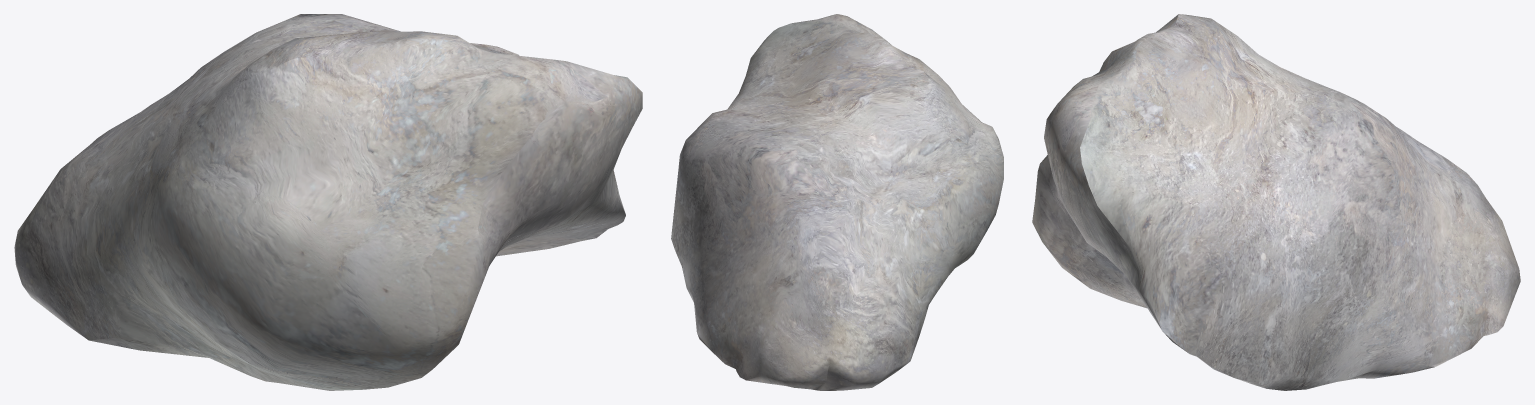
Rendered from rock_00F_2k.fbx.
3 views of the same model, side by side, from view 1: azimuth 30°, elevation 25°; view 2: azimuth 150°, elevation 25°; view 3: azimuth 270°, elevation 25° (orthographic). The views are drawn at different scales.
Visible parts, largest first — view 1: rock_00F_2k; view 2: rock_00F_2k; view 3: rock_00F_2k.
Part boxes in pixels (box(x1,y1,x2,y2)): rock_00F_2k: box(14, 14, 642, 390); rock_00F_2k: box(671, 14, 1003, 390); rock_00F_2k: box(1032, 14, 1520, 390).
Bounding box in the file's own units: 175 × 137 × 205.
